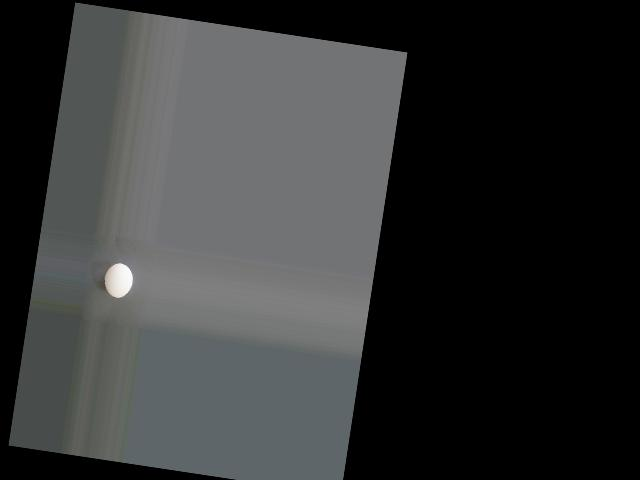egg: (102, 262, 134, 300)
